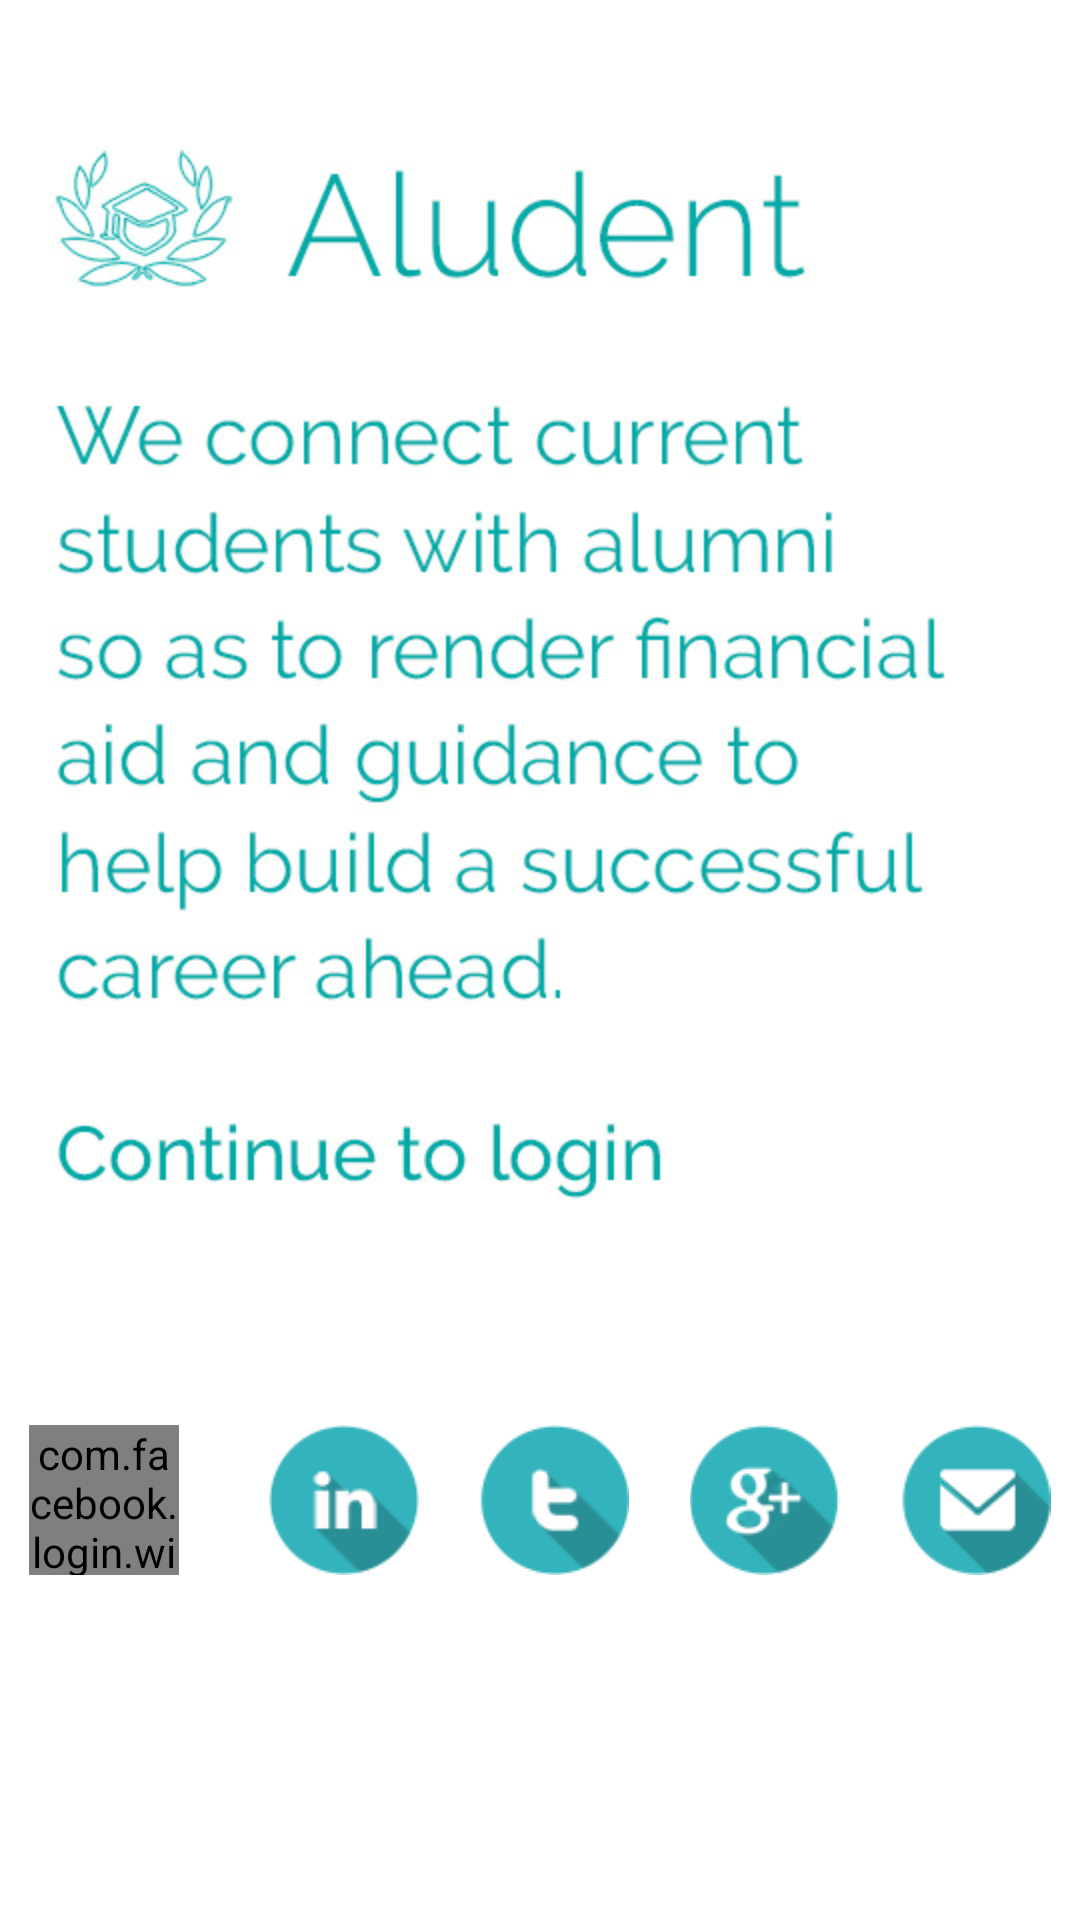

Where icons sit on this 1080w x 1920h app screen, as (x1, y1, x2, y2):
email: (902, 1425, 1051, 1575)
